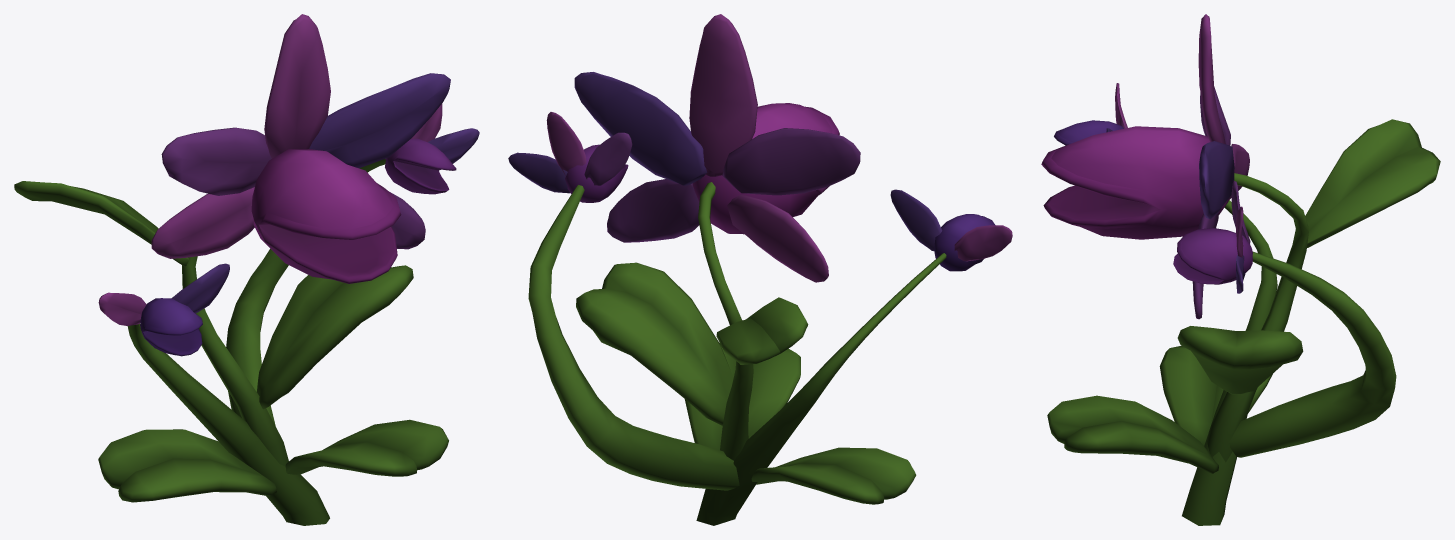
File: Plant_19.fbx
The picture shows the model from 3 angles, left to right: view 1: azimuth 30°, elevation 25°; view 2: azimuth 150°, elevation 25°; view 3: azimuth 270°, elevation 25°; orthographic projection.
Parts seen in each view (by area): view 1: Plant_19; view 2: Plant_19; view 3: Plant_19.
Part boxes in pixels (x1,y1,x2,y2): Plant_19: [14, 14, 479, 525]; Plant_19: [508, 14, 1012, 525]; Plant_19: [1041, 14, 1440, 525].
Size of the model in its own units: 5.41 by 5.93 by 4.27.
